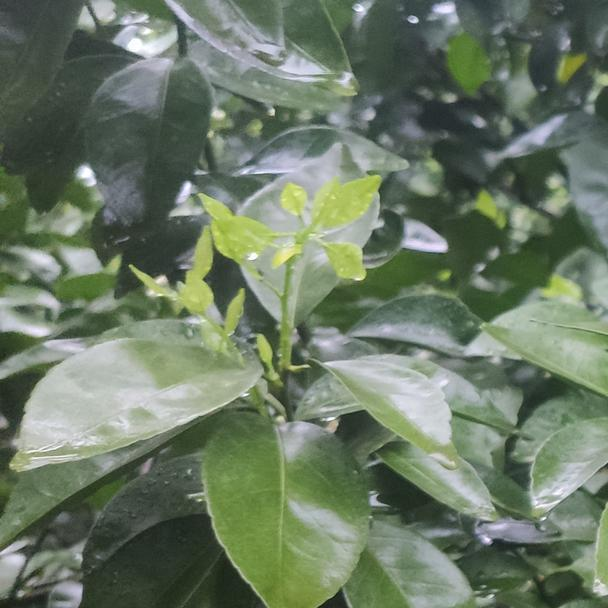shoot: (211, 186, 378, 304)
